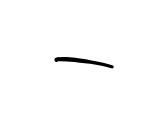minus: (54, 54, 113, 69)
